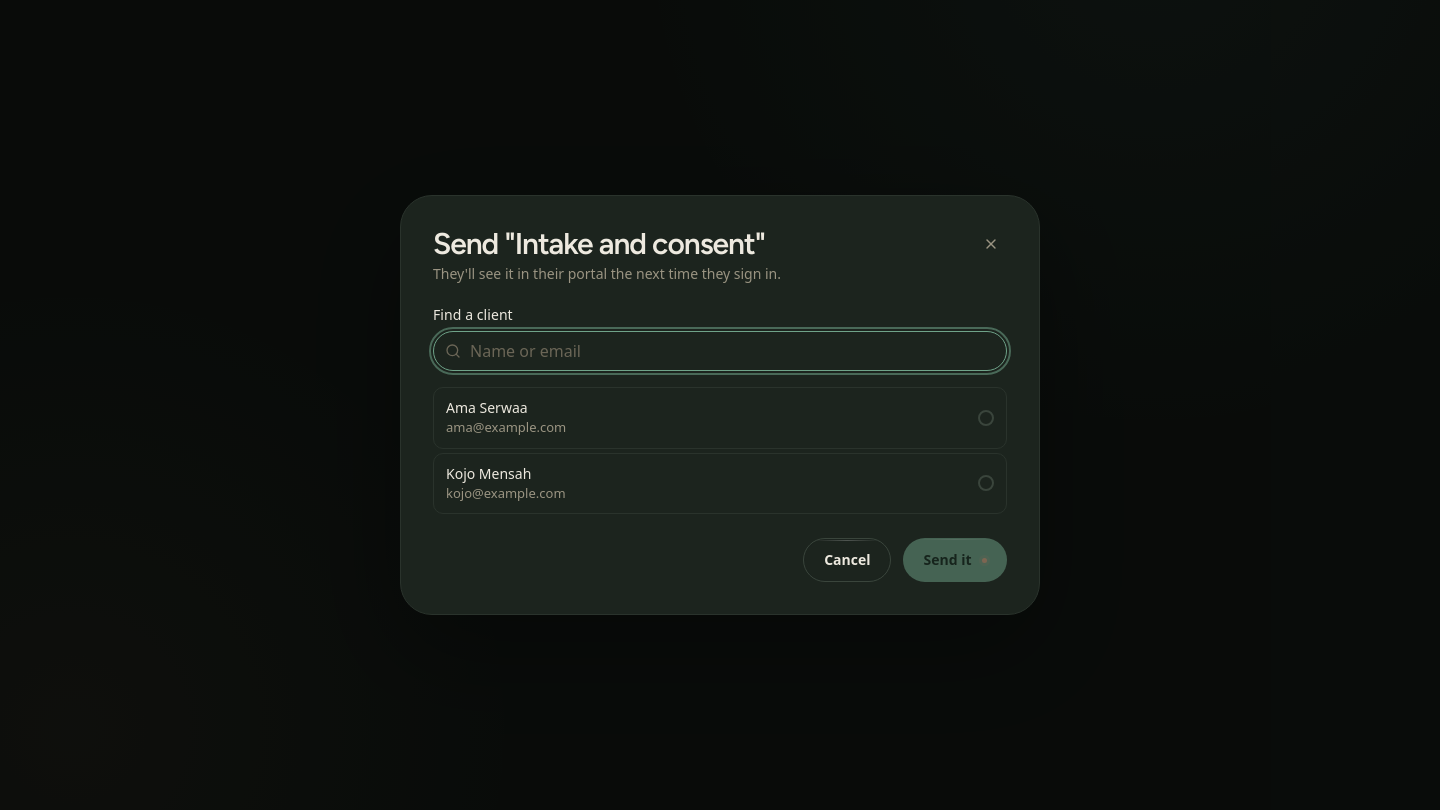
AssignFormModal › falls back to a generic message for an unrecognised failure
This screenshot has width=1440, height=810.
Click the radio button labelled "Ama Serwaa ama@example.com".
click(487, 408)  # box [433,387,1007,449]
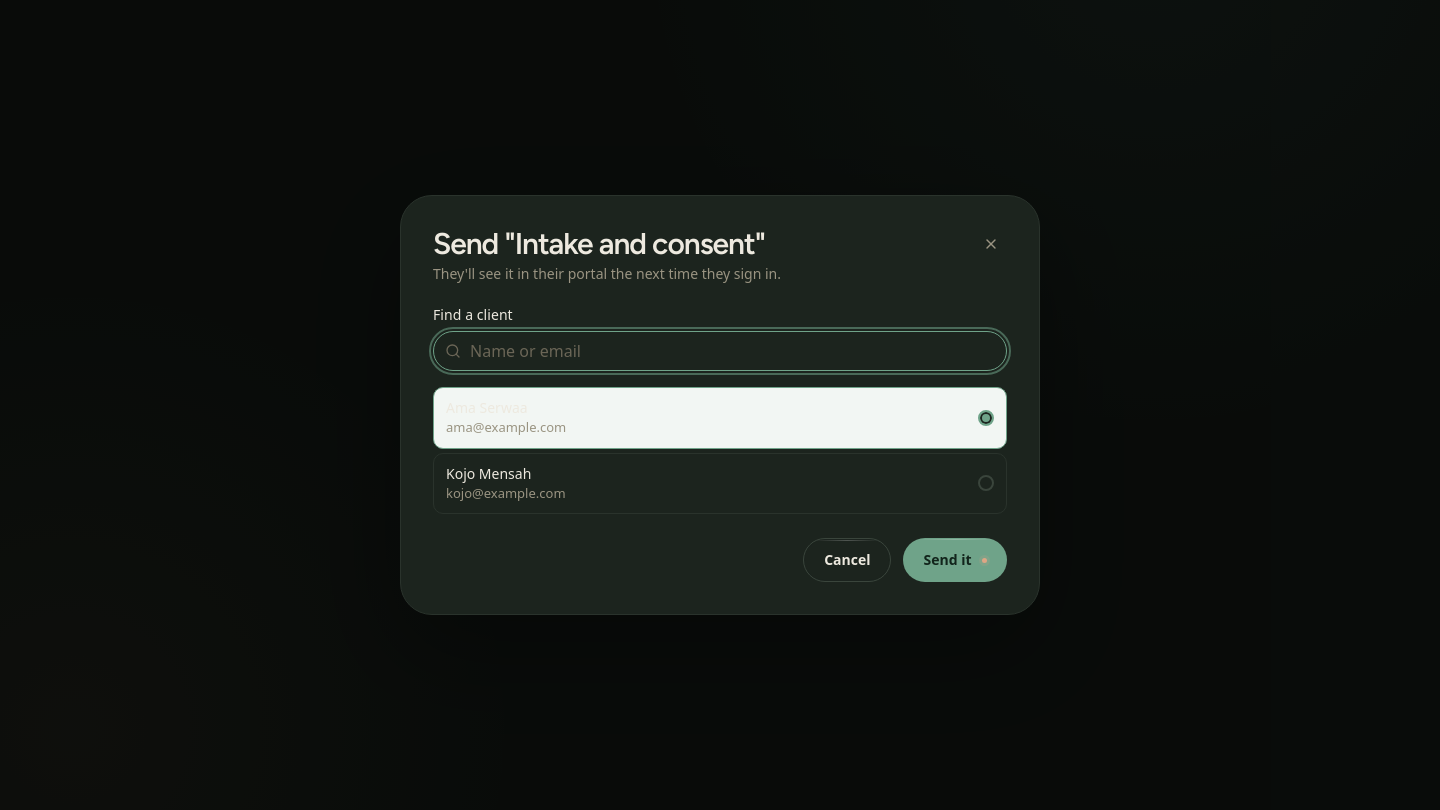
Click the button "Send it".
click(955, 560)  # box [904,538,1007,582]
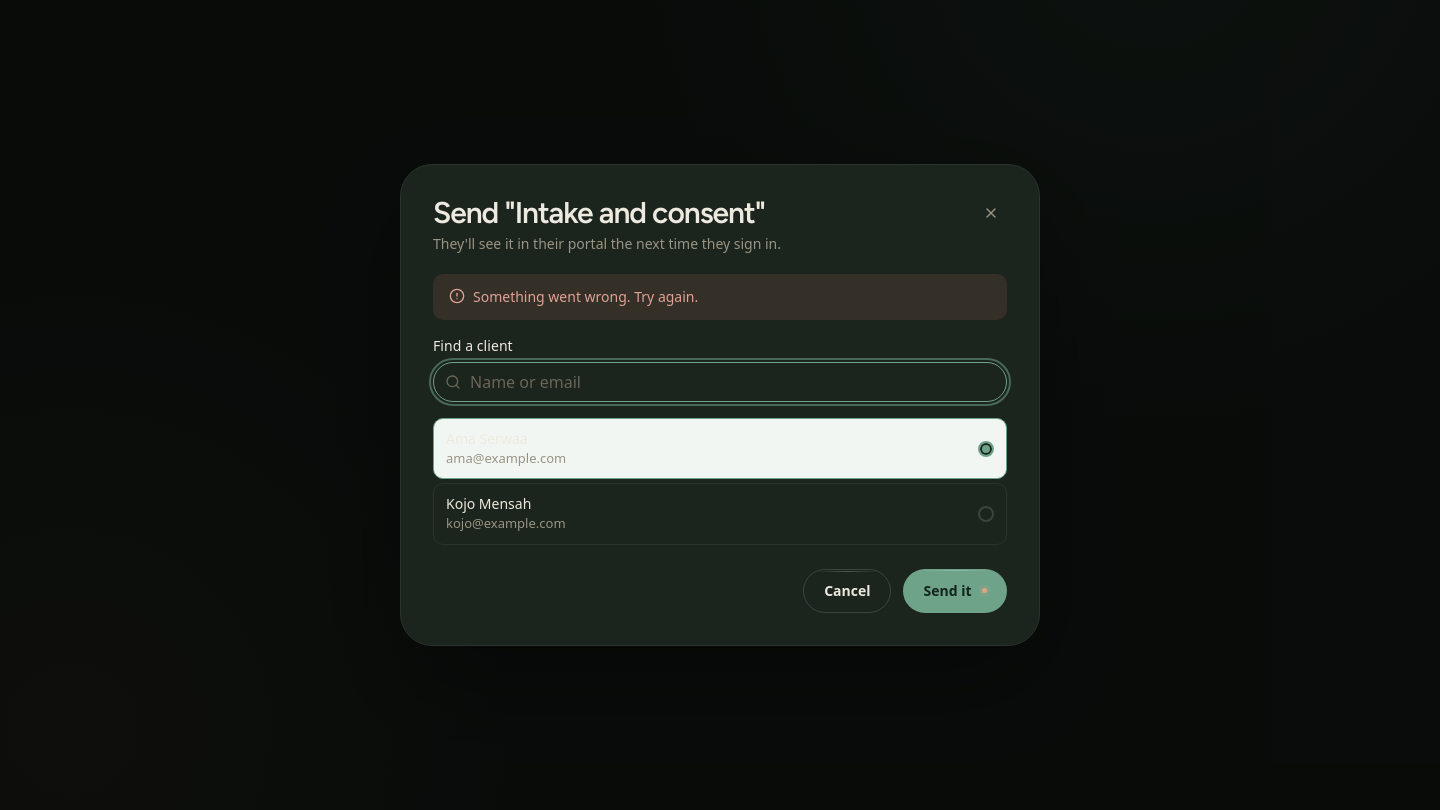
Expected: the message shows "Something went wrong", [473,287,698,306]
